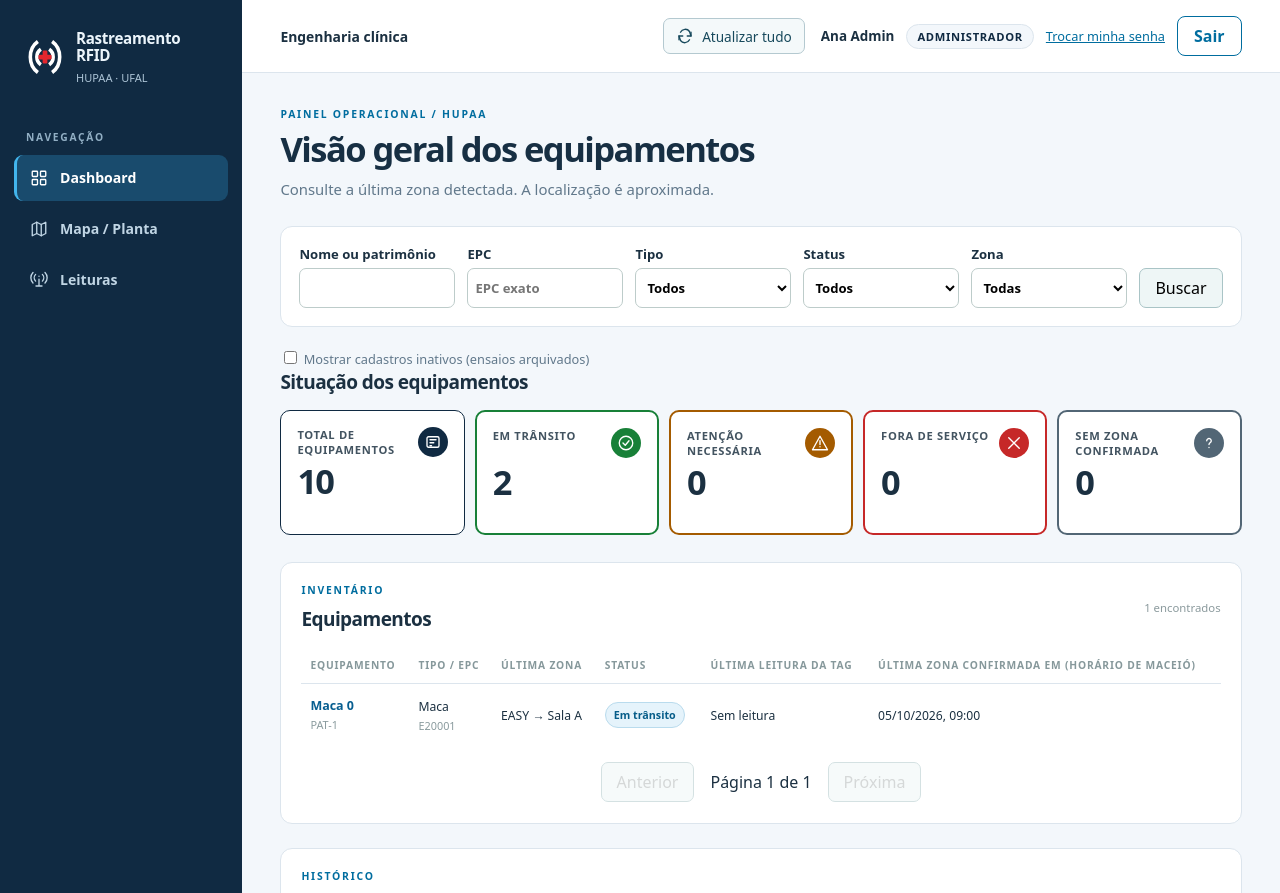
it: um botão global renova todos os recursos ativos sem aguardar o próximo ciclo
What coordinates should you click on to do the following:
click the button with aria-label "Atualizar todos os dados"
I would click on:
 (734, 36)
Its box is [663,18,805,54].
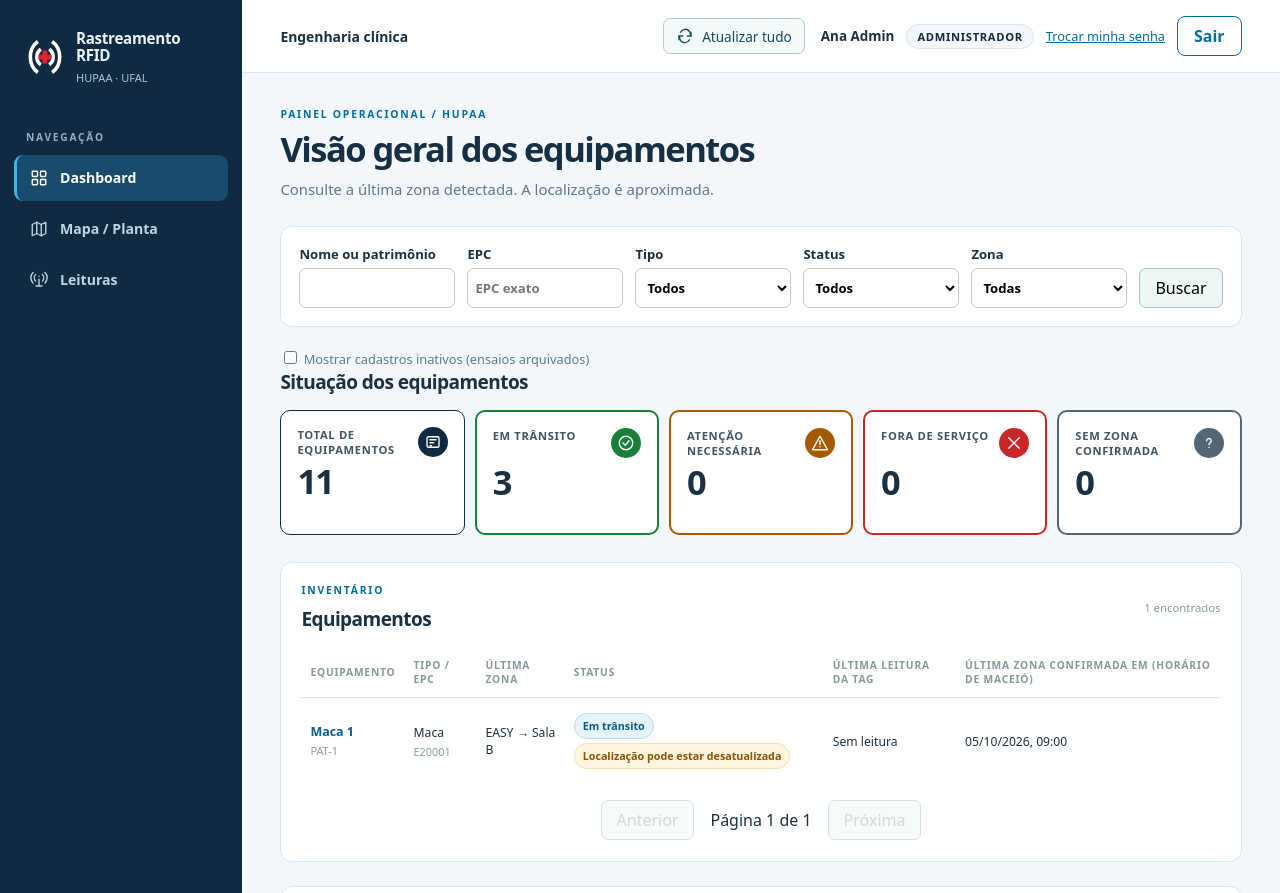
Expected: the number of buttons named "Atualizar todos os dados" is 1, [663,18,805,54]
Expected: the table shows "Maca 1", [310,723,354,758]
